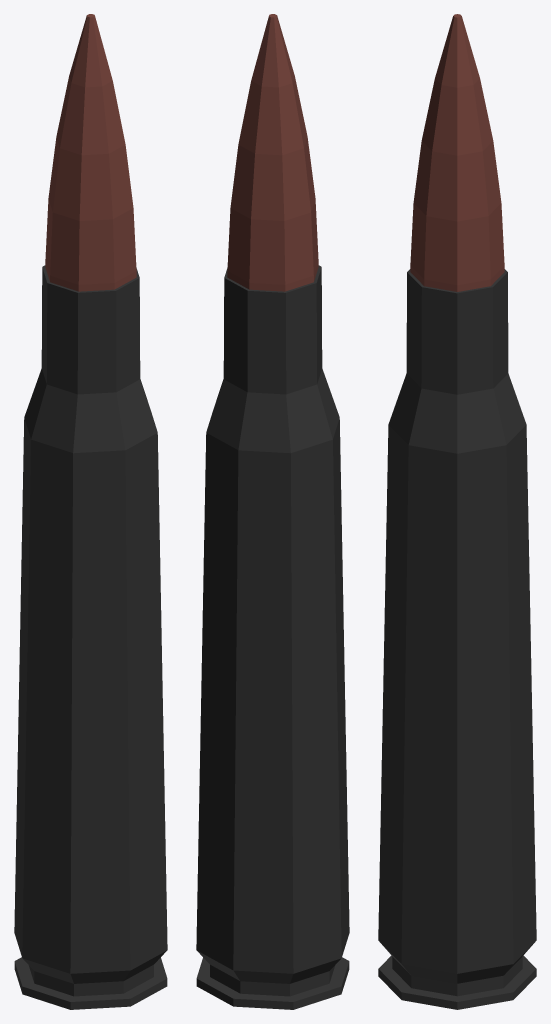
The picture shows the model from 3 angles, left to right: view 1: azimuth 30°, elevation 25°; view 2: azimuth 150°, elevation 25°; view 3: azimuth 270°, elevation 25°; orthographic projection.
Visible parts, largest first — view 1: 12.7x108; view 2: 12.7x108; view 3: 12.7x108.
Part boxes in pixels (box(x1,y1,x2,y2)): 12.7x108: box(14, 14, 167, 1009); 12.7x108: box(196, 14, 349, 1009); 12.7x108: box(378, 14, 536, 1009).
Bounding box in the file's own units: 0.0219 × 0.147 × 0.0219.
1 material, 1 textured.
